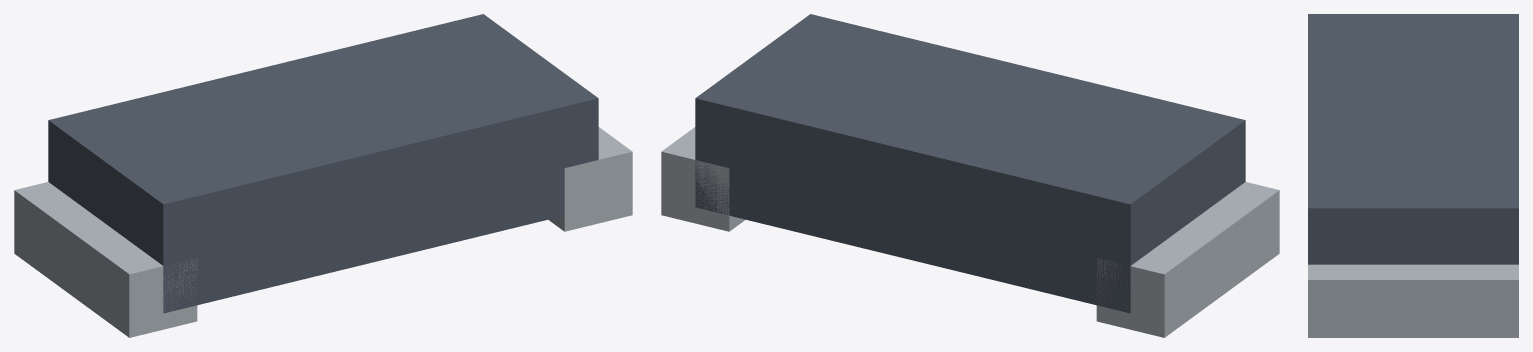
3 renders of one model, left to right at view 1: azimuth 30°, elevation 25°; view 2: azimuth 150°, elevation 25°; view 3: azimuth 270°, elevation 25°, orthographic. The views are drawn at different scales.
Visible parts, largest first — view 1: part0000__PSMAT__Connector_Polymer, part0001__PSMAT__Tin_Solder, part0002__PSMAT__Tin_Solder; view 2: part0000__PSMAT__Connector_Polymer, part0001__PSMAT__Tin_Solder, part0002__PSMAT__Tin_Solder; view 3: part0000__PSMAT__Connector_Polymer, part0002__PSMAT__Tin_Solder.
Boxes of the visible parts, x1,y1,x2,y2 form: part0000__PSMAT__Connector_Polymer: [48, 14, 598, 313]; part0001__PSMAT__Tin_Solder: [14, 182, 197, 337]; part0002__PSMAT__Tin_Solder: [548, 127, 632, 231]; part0000__PSMAT__Connector_Polymer: [695, 14, 1245, 313]; part0001__PSMAT__Tin_Solder: [1096, 182, 1279, 337]; part0002__PSMAT__Tin_Solder: [661, 127, 745, 231]; part0000__PSMAT__Connector_Polymer: [1308, 14, 1518, 264]; part0002__PSMAT__Tin_Solder: [1308, 264, 1518, 337].
Size of the model in its own units: 0.00555 by 0.00132 by 0.0022.
